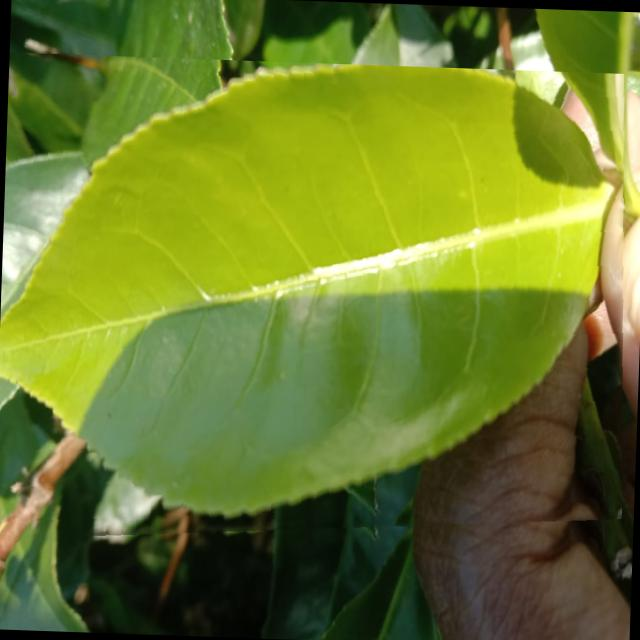Category B 2-4 days: (0, 51, 637, 560)
